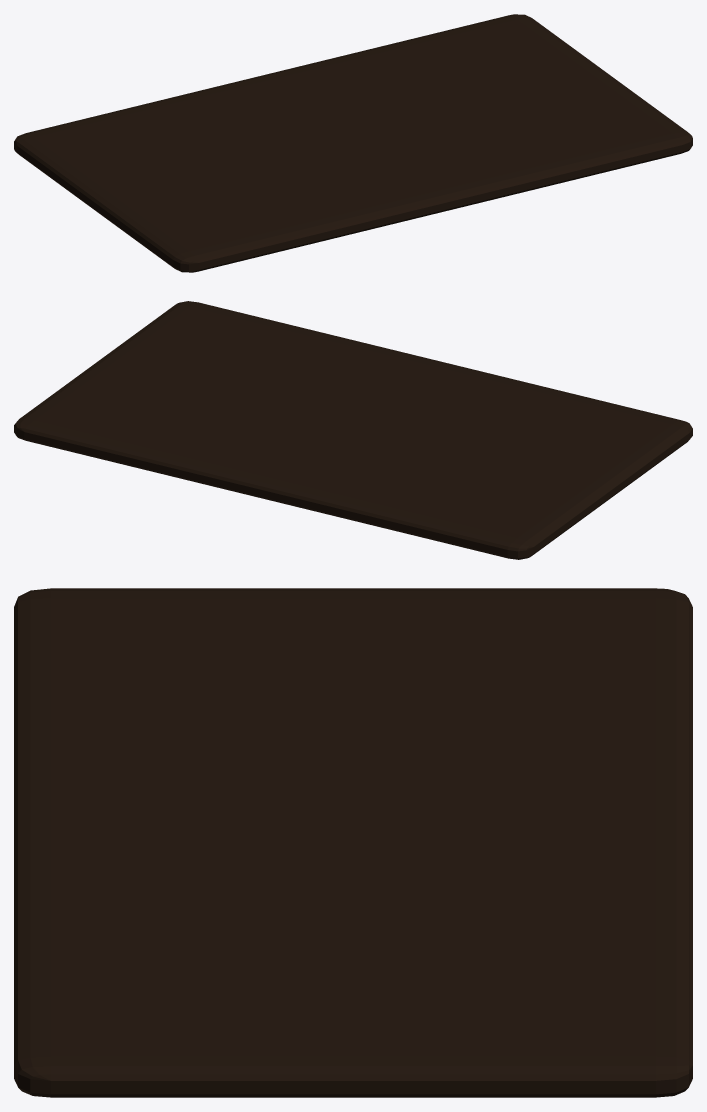
File: terrain_2.FBX
3 views of the same model, one above another, from view 1: azimuth 30°, elevation 25°; view 2: azimuth 150°, elevation 25°; view 3: azimuth 270°, elevation 25° (orthographic). The views are drawn at different scales.
Parts seen in each view (by area): view 1: terrain_2; view 2: terrain_2; view 3: terrain_2.
Part boxes in pixels (box(x1,y1,x2,y2)): terrain_2: box(14, 14, 692, 272); terrain_2: box(14, 301, 692, 559); terrain_2: box(14, 588, 692, 1097).
Bounding box in the file's own units: 704 × 20.87 × 413.
